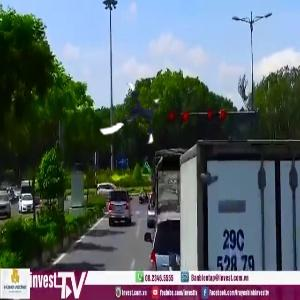drone: (96, 80, 169, 153)
